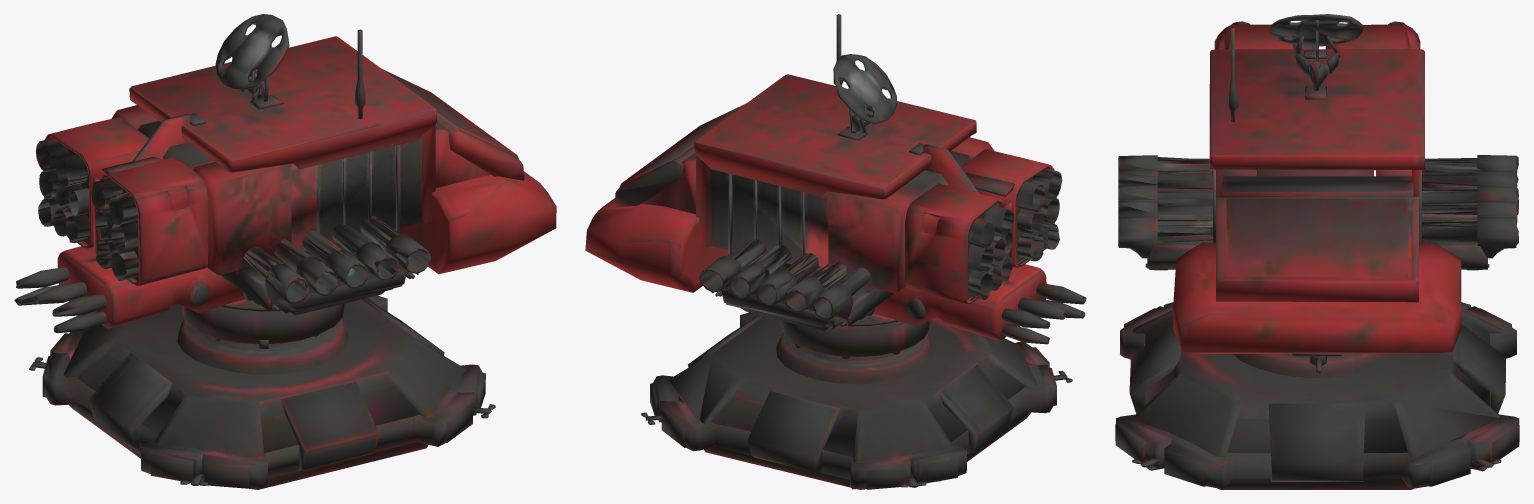
File: t_missile_3.glb
3 renders of one model, left to right at view 1: azimuth 30°, elevation 25°; view 2: azimuth 150°, elevation 25°; view 3: azimuth 270°, elevation 25°, orthographic. The views are drawn at different scales.
Size of the model in its own units: 0.9575 by 0.7876 by 0.6919.
Materials: 1 (1 with a texture image).
